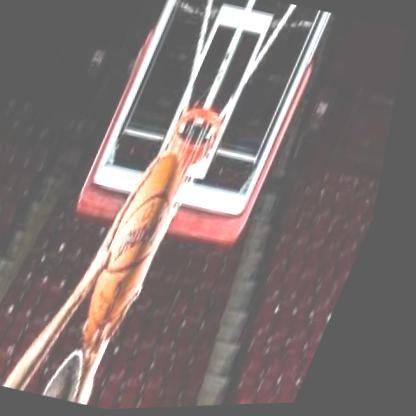basketball: (80, 143, 214, 352)
